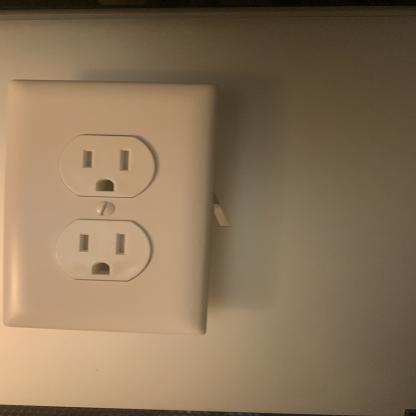OUTLET: (2, 83, 217, 331)
